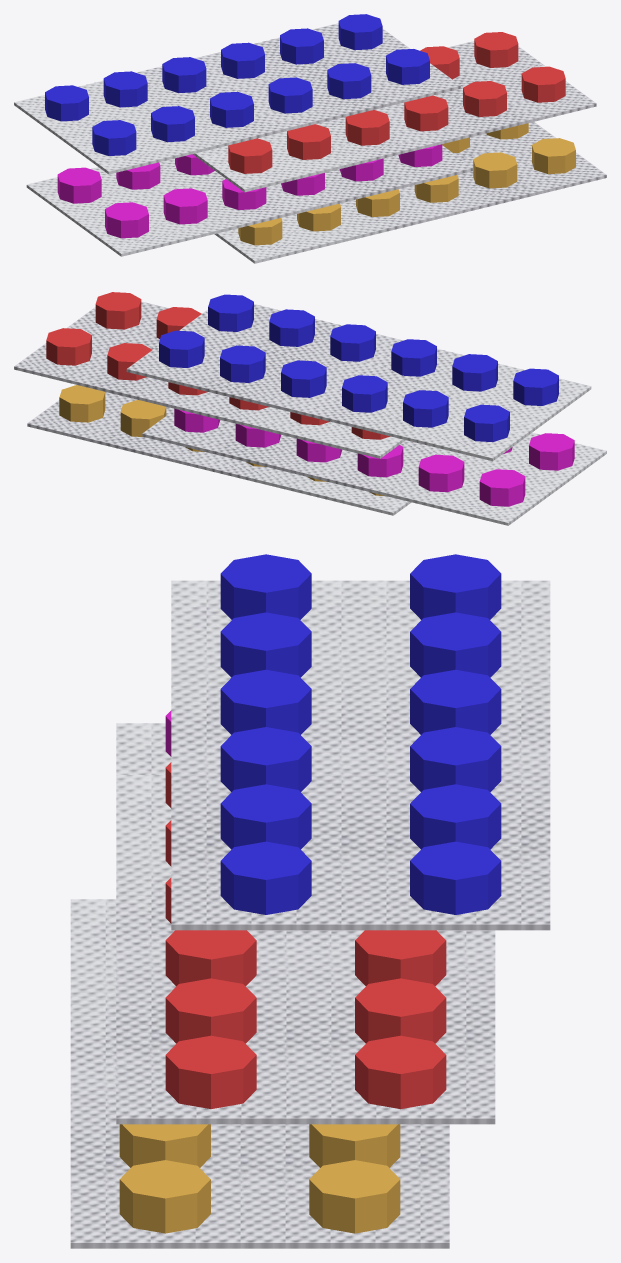
File: Medince2.fbx
3 views of the same model, one above another, from view 1: azimuth 30°, elevation 25°; view 2: azimuth 150°, elevation 25°; view 3: azimuth 270°, elevation 25° (orthographic). The views are drawn at different scales.
Parts seen in each view (by area): view 1: Plane.003; view 2: Plane.003; view 3: Plane.003.
Boxes of the visible parts, left/top/right/bottom form: Plane.003: left=14, top=14, right=606, bottom=263; Plane.003: left=14, top=292, right=606, bottom=525; Plane.003: left=70, top=554, right=550, bottom=1248.
Bounding box in the file's own units: 17.81 × 7.79 × 4.33.
5 materials, 1 textured.
